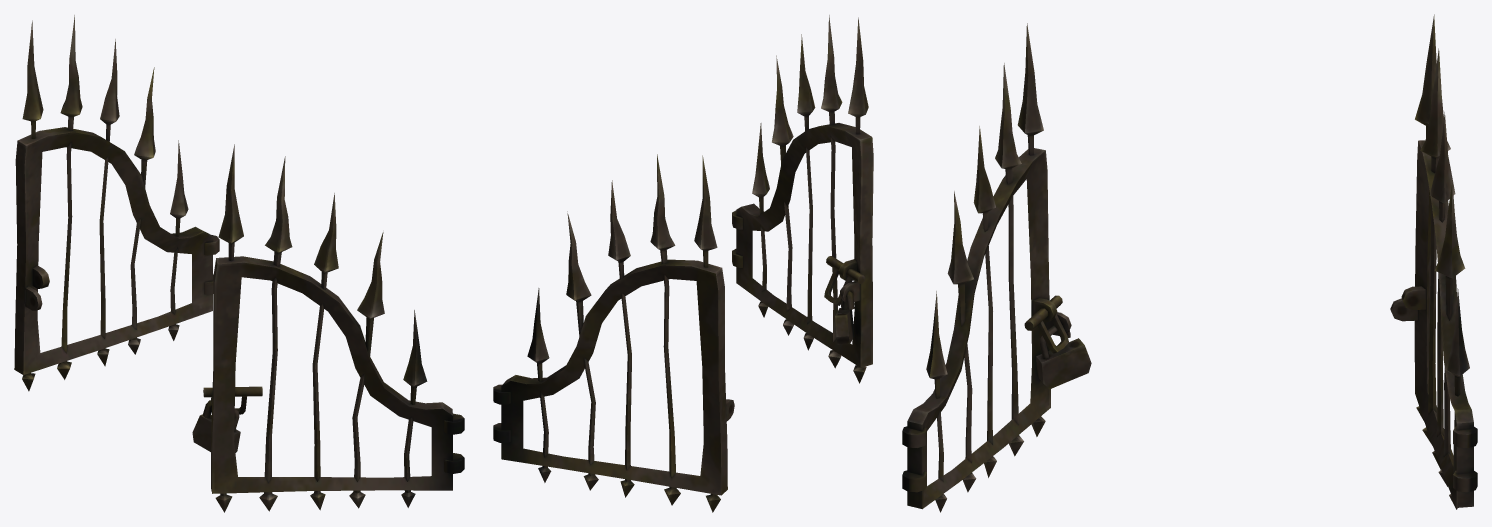
File: mesh_raid3_gate1.FBX
3 views of the same model, side by side, from view 1: azimuth 30°, elevation 25°; view 2: azimuth 150°, elevation 25°; view 3: azimuth 270°, elevation 25° (orthographic). The views are drawn at different scales.
Parts seen in each view (by area): view 1: mesh_raid3_gate1; view 2: mesh_raid3_gate1; view 3: mesh_raid3_gate1.
Part boxes in pixels (x1=…): mesh_raid3_gate1: x1=14, y1=15, x2=464, y2=512; mesh_raid3_gate1: x1=493, y1=15, x2=873, y2=512; mesh_raid3_gate1: x1=902, y1=14, x2=1477, y2=512.
Bounding box in the file's own units: 3.39 × 5.53 × 6.88.
